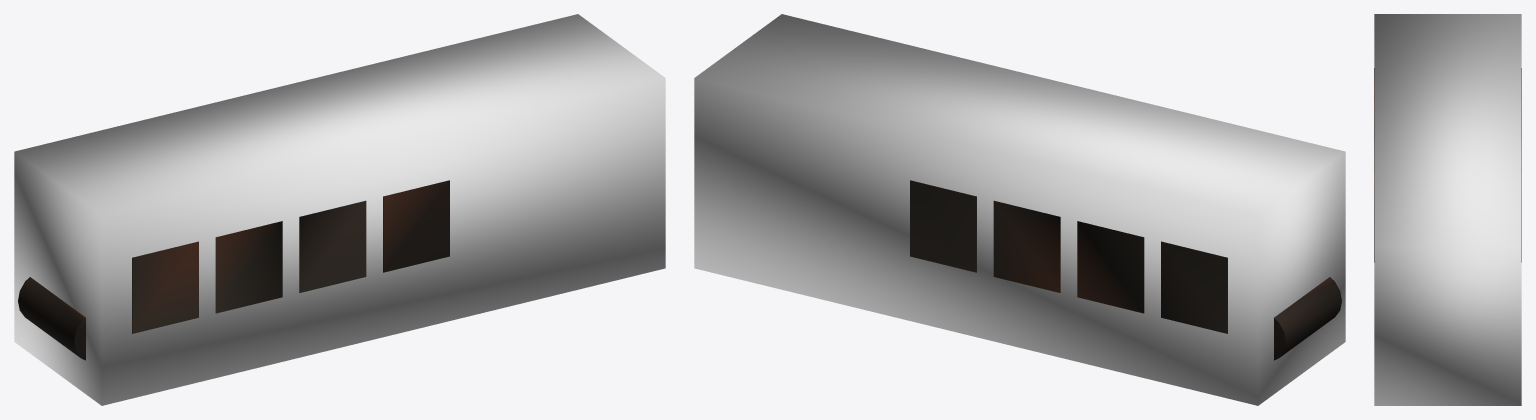
The model's file is bombero_quemado.glb.
3 renders of one model, left to right at view 1: azimuth 30°, elevation 25°; view 2: azimuth 150°, elevation 25°; view 3: azimuth 270°, elevation 25°, orthographic. The views are drawn at different scales.
Parts seen in each view (by area): view 1: bombero_quemado-colcaja, bombero_quemado; view 2: bombero_quemado-colcaja, bombero_quemado; view 3: bombero_quemado-colcaja, bombero_quemado.
Boxes of the visible parts, box(x1,y1,x2,y2) form: bombero_quemado-colcaja: box(14, 14, 665, 405); bombero_quemado: box(18, 180, 449, 360); bombero_quemado-colcaja: box(694, 14, 1345, 405); bombero_quemado: box(910, 180, 1341, 360); bombero_quemado-colcaja: box(1374, 14, 1521, 405); bombero_quemado: box(1374, 68, 1521, 262).
Size of the model in its own units: 9.5 by 3 by 2.51.
